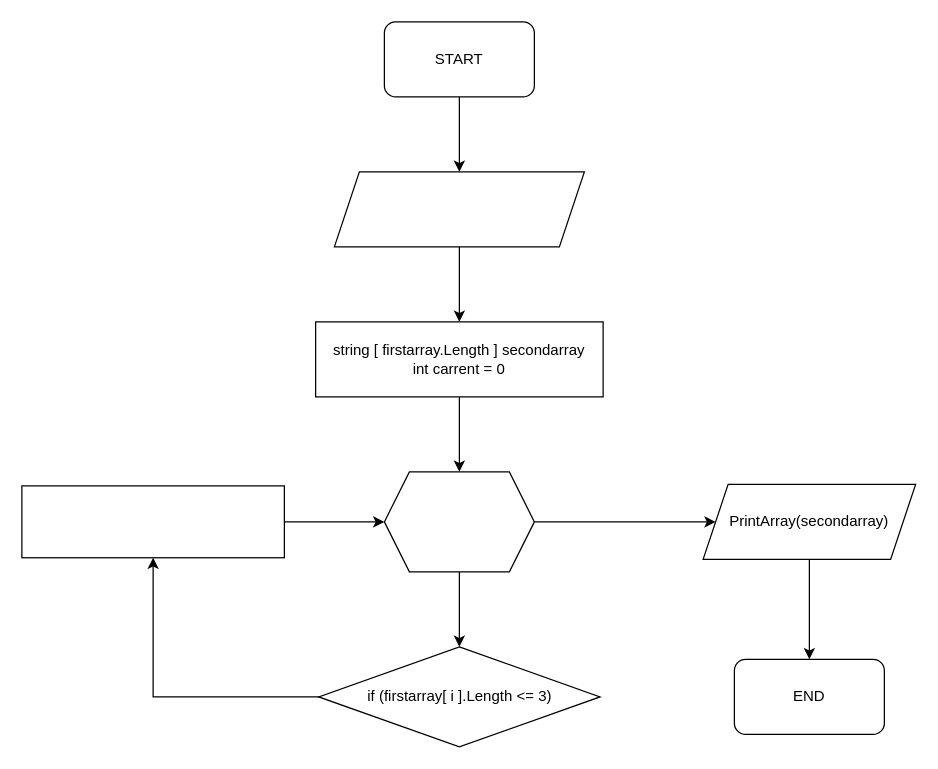
Image size: 938x769. Some labels were removed from this diagram. Here are the shapes that lost their labels. From the top down, the centre of each, then its label:
(458,209): string [ ] firstarray
(152,521): secondarray [ carrent ] = firstarray [ i ] carrent++;
(458,521): for (int i = 0; i < firstarray.Length; i++)
